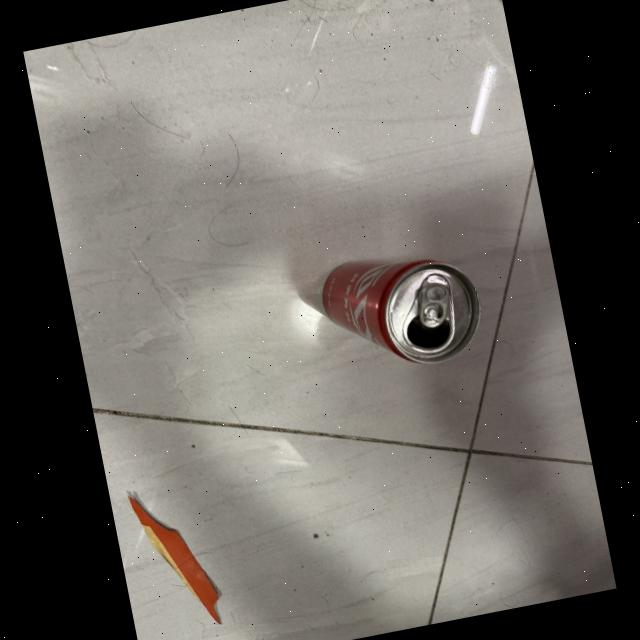Cola: (302, 226, 496, 386)
